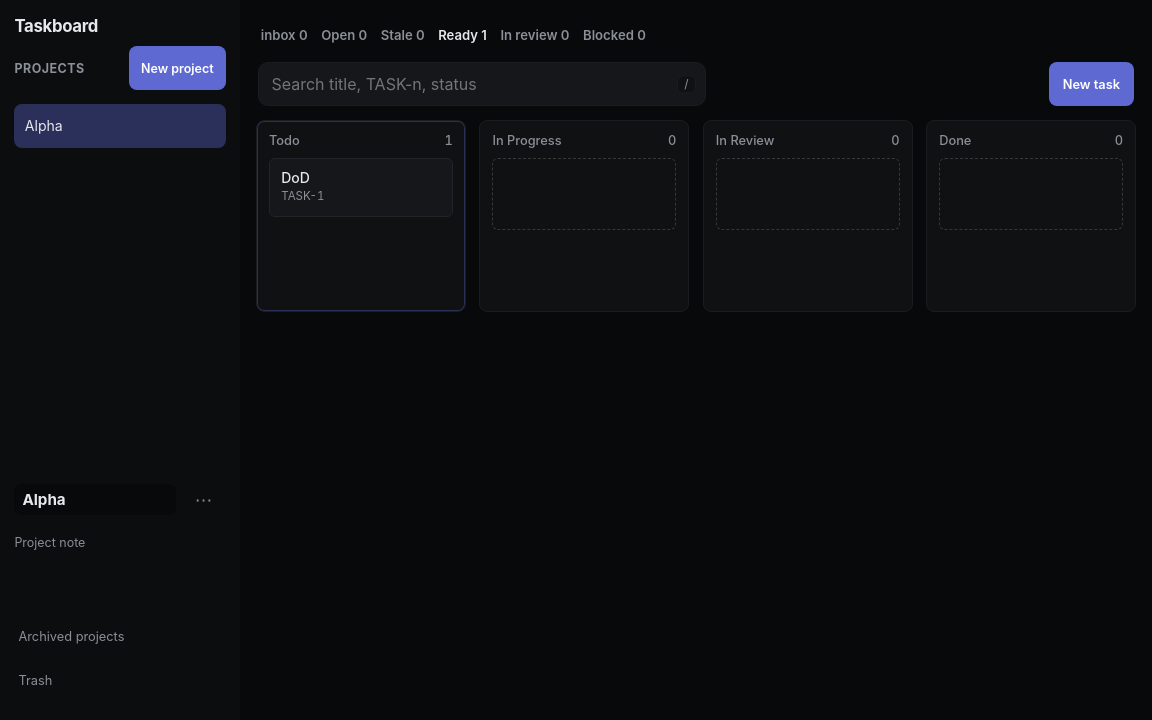
Test case: Inspector checklists › removes a check from the inspector
Click the text "DoD" at (296, 178), box 281,169 -> 310,186
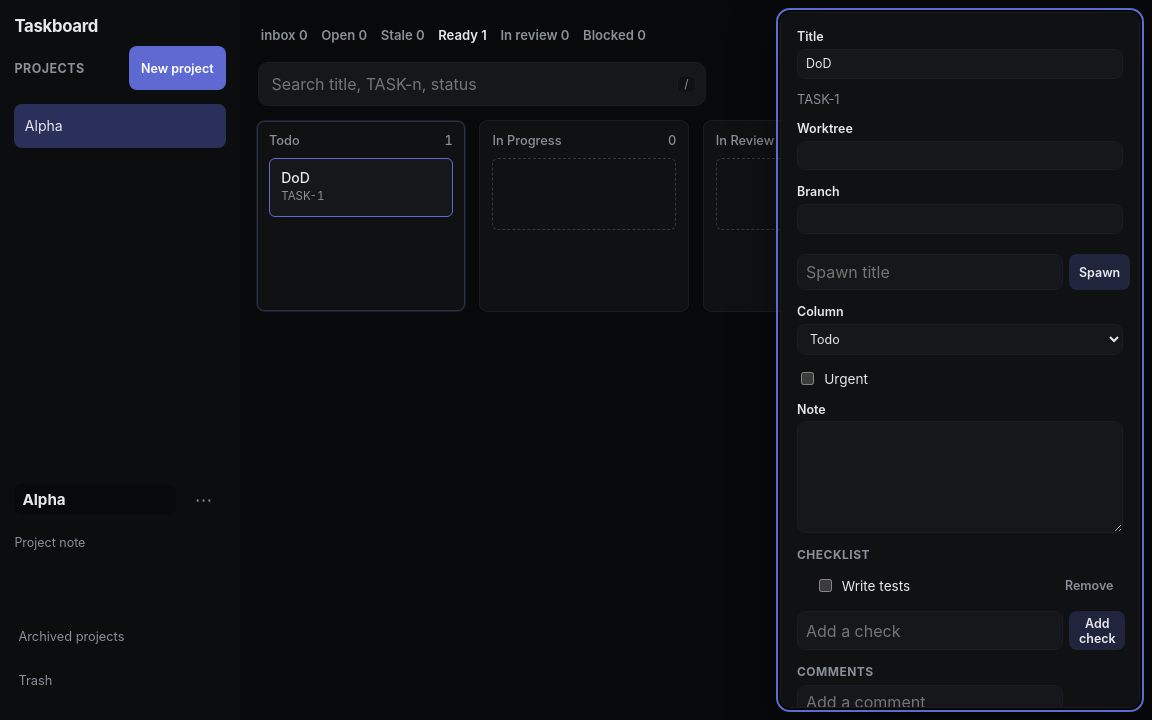
Click the button with aria-label "Remove CHECK-1" at (1089, 586), box 1055,568 -> 1123,604
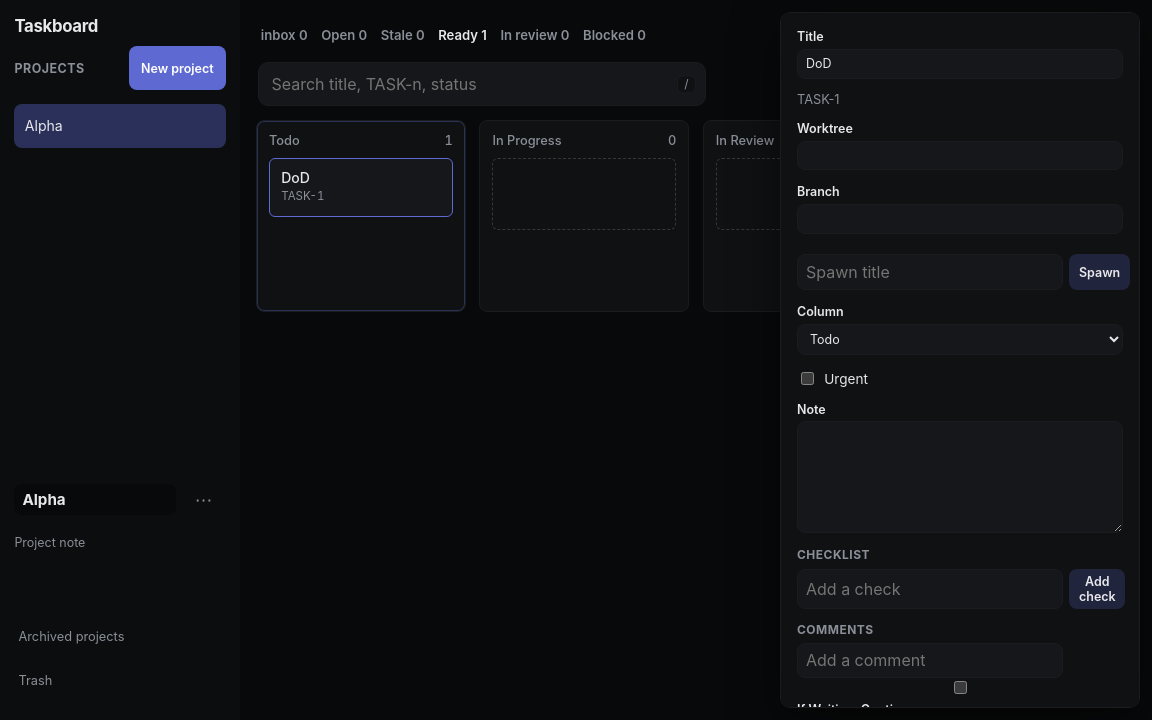
Now the label "Write tests" is gone
